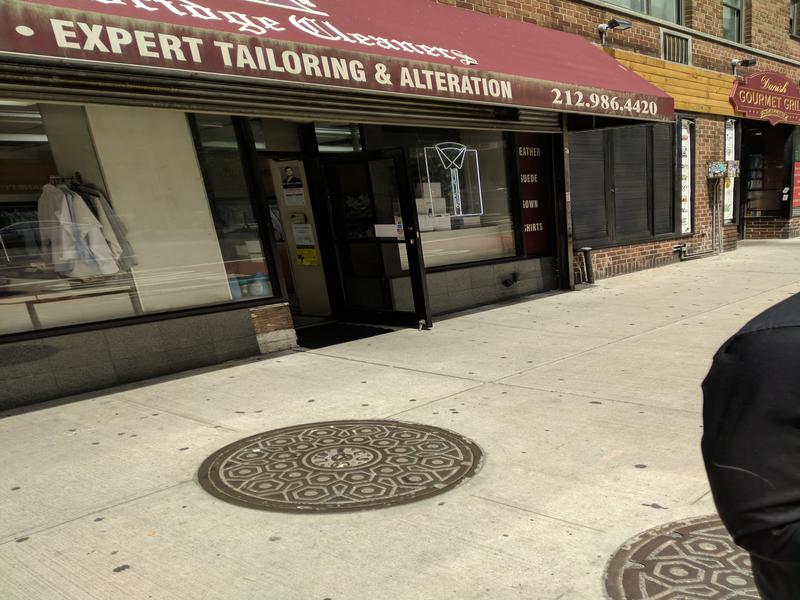door: (314, 149, 447, 332)
